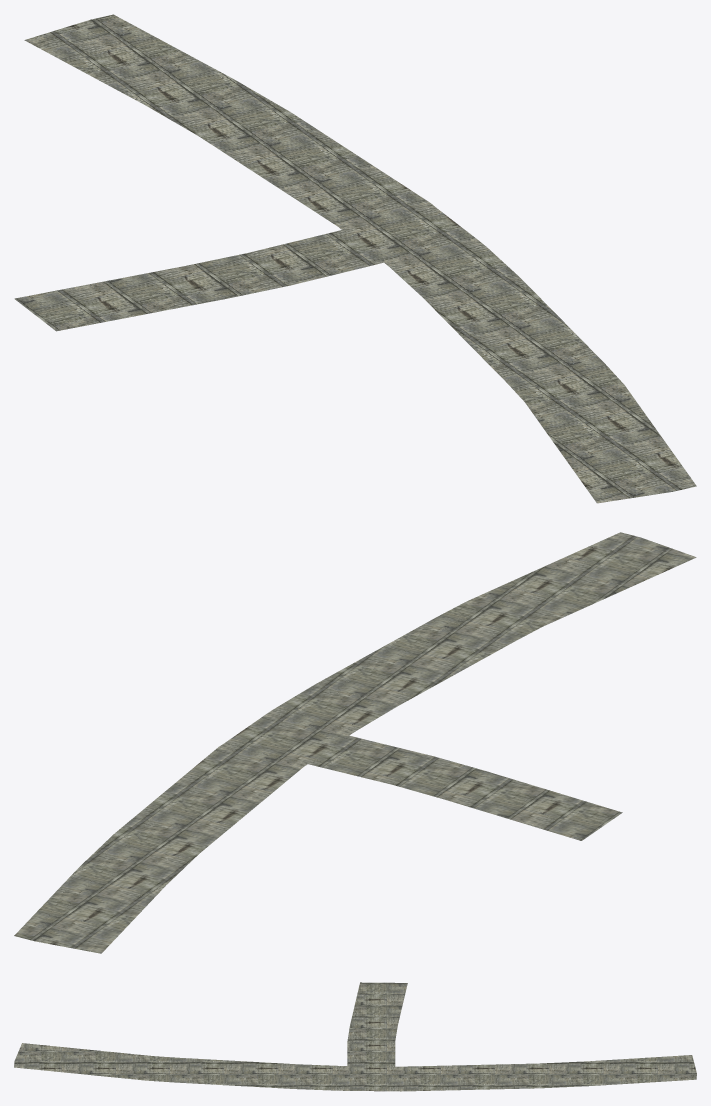
The model's file is SM_Corridor_07_water.fbx.
3 renders of one model, top to bottom at view 1: azimuth 30°, elevation 25°; view 2: azimuth 150°, elevation 25°; view 3: azimuth 270°, elevation 25°, orthographic. The views are drawn at different scales.
Parts seen in each view (by area): view 1: SM_Corridor_07_water; view 2: SM_Corridor_07_water; view 3: SM_Corridor_07_water.
Part boxes in pixels (bbox=[...]): SM_Corridor_07_water: bbox=[14, 14, 696, 503]; SM_Corridor_07_water: bbox=[14, 532, 696, 953]; SM_Corridor_07_water: bbox=[14, 982, 696, 1091].
Bounding box in the file's own units: 2752 × 0.6602 × 7282.
